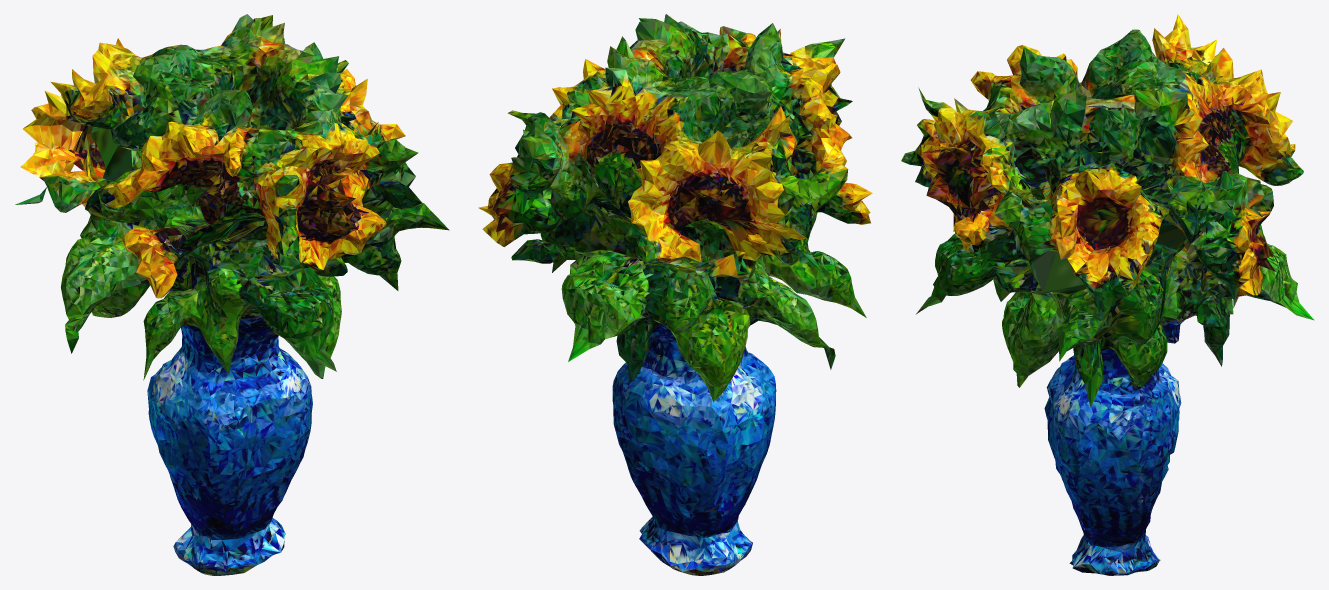
File: sunflower-canny.glb
The picture shows the model from 3 angles, left to right: view 1: azimuth 30°, elevation 25°; view 2: azimuth 150°, elevation 25°; view 3: azimuth 270°, elevation 25°; orthographic projection.
Visible parts, largest first — view 1: extracted_mesh; view 2: extracted_mesh; view 3: extracted_mesh.
Part boxes in pixels (x1,y1,x2,y2): extracted_mesh: (15,14,449,575); extracted_mesh: (478,14,872,575); extracted_mesh: (901,14,1314,575).
Bounding box in the file's own units: 0.7538 × 1.03 × 0.7506.
1 material, 1 textured.
